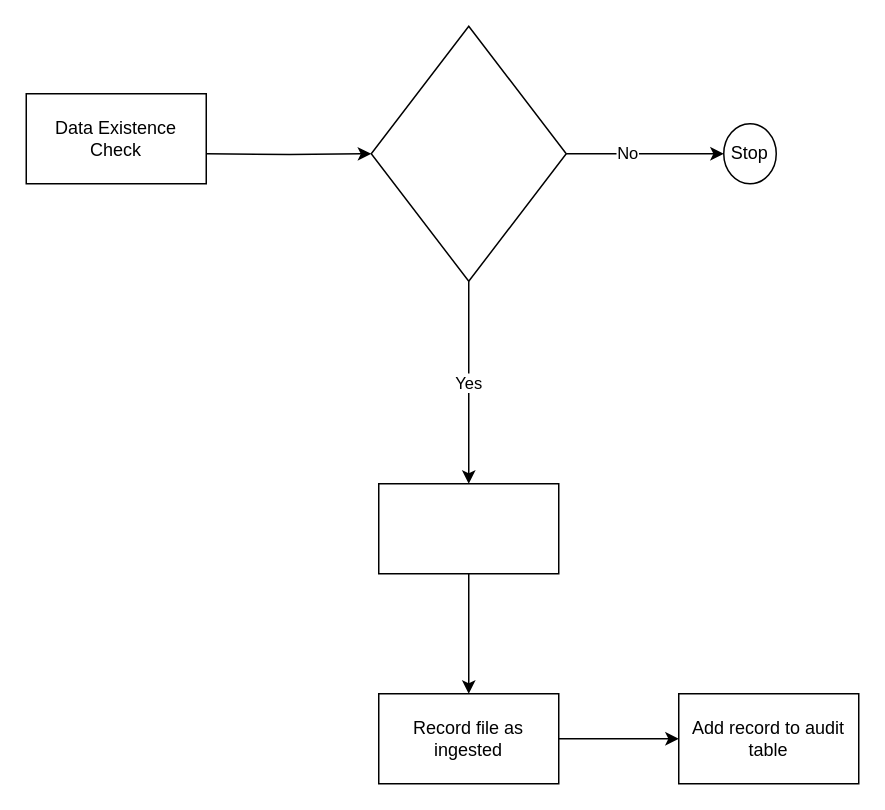
This 885x810 diagram has some shape labels left out. Each missing label, with the box of its shape:
If file not ingested: (370, 25, 566, 281)
Load file to database: (377, 482, 559, 574)
